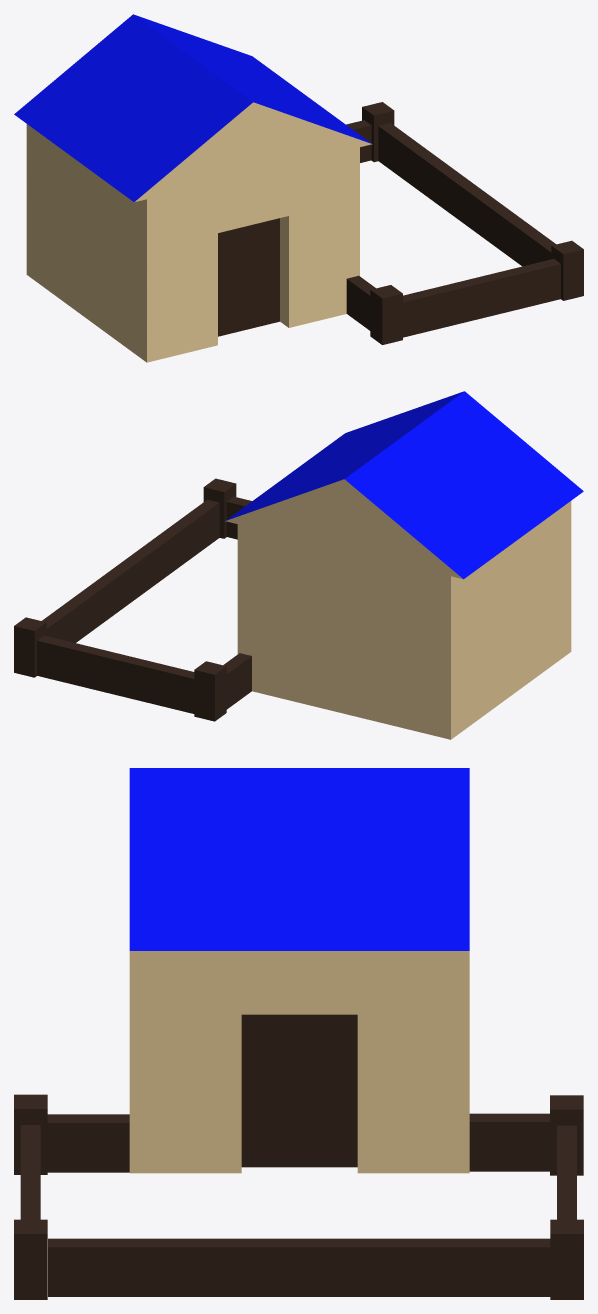
The model's file is Farm.fbx.
3 views of the same model, one above another, from view 1: azimuth 30°, elevation 25°; view 2: azimuth 150°, elevation 25°; view 3: azimuth 270°, elevation 25° (orthographic). The views are drawn at different scales.
Visible parts, largest first — view 1: Farm; view 2: Farm; view 3: Farm.
Boxes of the visible parts, x1,y1,x2,y2 form: Farm: (14, 14, 583, 362); Farm: (14, 391, 583, 739); Farm: (14, 768, 583, 1299).
Size of the model in its own units: 1585 by 869 by 1352.
